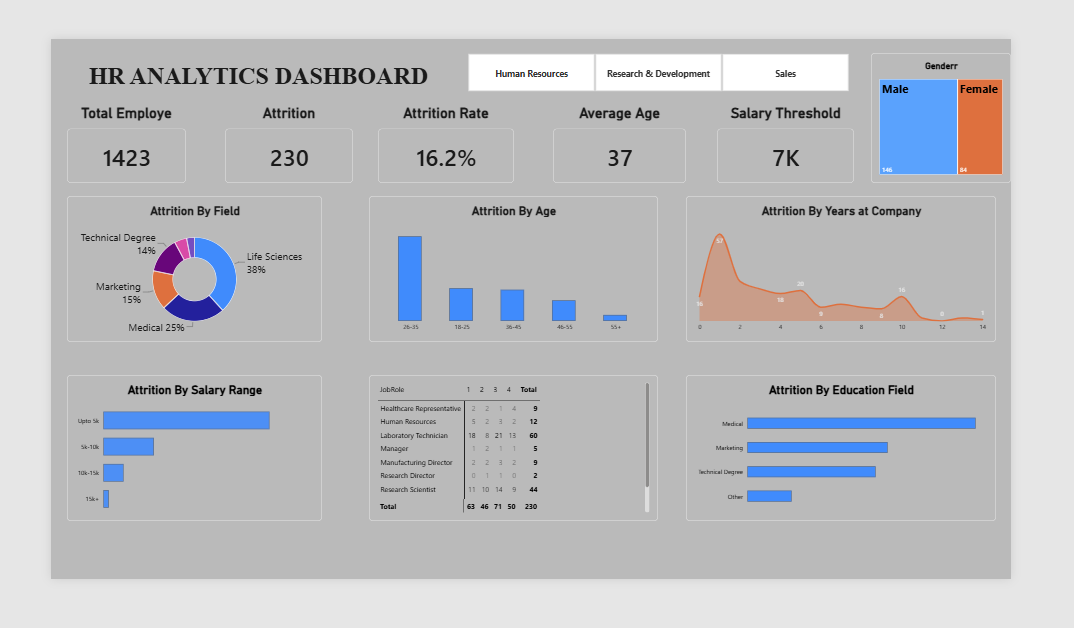

The dashboard page shown, as its layout file describes it:
{"tool":"powerbi","page":{"name":"Page 1","canvas":[1920,1080],"ordinal":0},"visuals":[{"type":"cardVisual","title":"Total Employe","fields":{"Data":["CountNonNull(HR_Analytics (1).EmpID)"]},"box":[31.2,130.4,238.1,158.7],"z":0},{"type":"cardVisual","title":"Attrition","fields":{"Data":["Sum(HR_Analytics (1).AttritionCount)"]},"box":[348,130,256,158],"z":1000},{"type":"cardVisual","title":"Attrition Rate","fields":{"Data":["HR_Analytics (1).AttritionRate"]},"box":[654,130,272.1,158.7],"z":2000},{"type":"cardVisual","title":"Average Age","fields":{"Data":["Avg(HR_Analytics (1).Age)"]},"box":[1004,130,266.5,158.7],"z":3000},{"type":"cardVisual","title":"Salary Threshold","fields":{"Data":["Avg(HR_Analytics (1).MonthlyIncome)"]},"box":[1332,130,275,158.7],"z":4000},{"type":"donutChart","title":"Attrition By Field","fields":{"Category":["HR_Analytics (1).EducationField"],"Y":["Sum(HR_Analytics (1).AttritionCount)"]},"box":[32,314,510,292],"z":5000},{"type":"clusteredColumnChart","title":"Attrition By Age","fields":{"Category":["HR_Analytics (1).AgeGroup"],"Y":["Sum(HR_Analytics (1).AttritionCount)"]},"box":[636,314,578,292],"z":6000},{"type":"pivotTable","fields":{"Columns":["HR_Analytics (1).JobSatisfaction"],"Rows":["HR_Analytics (1).JobRole"],"Values":["Sum(HR_Analytics (1).AttritionCount)"]},"box":[636,672,578,292],"z":7000},{"type":"barChart","title":"Attrition By Salary Range","fields":{"Category":["HR_Analytics (1).SalarySlab"],"Y":["Sum(HR_Analytics (1).AttritionCount)"]},"box":[32,672,510,292],"z":8000},{"type":"clusteredBarChart","title":"Attrition By Education Field","fields":{"Category":["HR_Analytics (1).EducationField"],"Y":["Sum(HR_Analytics (1).AttritionCount)"]},"box":[1270,672,620,292],"z":9000},{"type":"areaChart","title":"Attrition By Years at Company","fields":{"Category":["HR_Analytics (1).YearsAtCompany"],"Y":["Sum(HR_Analytics (1).AttritionCount)"]},"box":[1270,314,620,292],"z":10000},{"type":"treemap","title":"Genderr","fields":{"Group":["HR_Analytics (1).Gender"],"Values":["Sum(HR_Analytics (1).AttritionCount)"]},"box":[1640,28,280,260],"z":11000},{"type":"slicer","fields":{"Values":["HR_Analytics (1).Department"]},"box":[814,28,800,78],"z":11001},{"type":"textbox","title":"HR ANALYTICS DASHBOARD","box":[16,46,798,60],"z":11002}]}

Visuals, with their boxes on the page's 1920x1080 design canvas (x1, y1, x2, y2). These are canvas units, not pixel positions in the 1074x628 screenshot, which may show the page scaled, cropped or inside an application window:
"Total Employe" cardVisual: [31, 130, 269, 289]
"Attrition" cardVisual: [348, 130, 604, 288]
"Attrition Rate" cardVisual: [654, 130, 926, 289]
"Average Age" cardVisual: [1004, 130, 1270, 289]
"Salary Threshold" cardVisual: [1332, 130, 1607, 289]
"Attrition By Field" donutChart: [32, 314, 542, 606]
"Attrition By Age" clusteredColumnChart: [636, 314, 1214, 606]
pivotTable - HR_Analytics (1).JobSatisfaction x HR_Analytics (1).JobRole: [636, 672, 1214, 964]
"Attrition By Salary Range" barChart: [32, 672, 542, 964]
"Attrition By Education Field" clusteredBarChart: [1270, 672, 1890, 964]
"Attrition By Years at Company" areaChart: [1270, 314, 1890, 606]
"Genderr" treemap: [1640, 28, 1920, 288]
slicer - HR_Analytics (1).Department: [814, 28, 1614, 106]
"HR ANALYTICS DASHBOARD" textbox: [16, 46, 814, 106]
